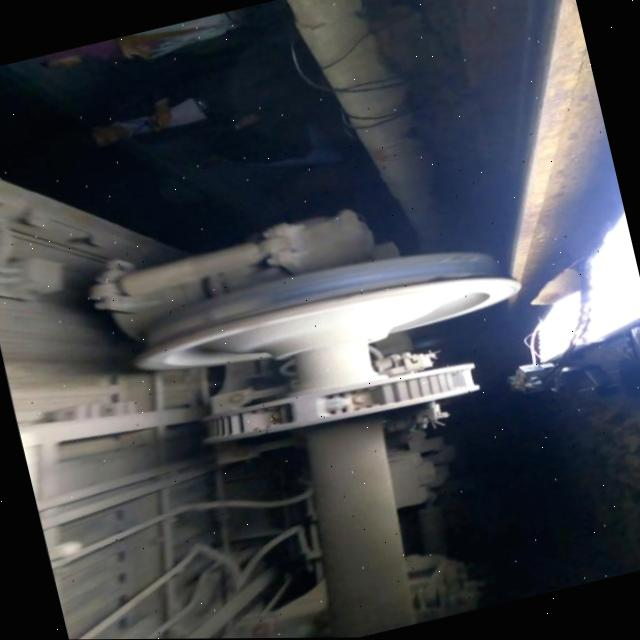Cracks-Scratches: (436, 254, 478, 265), (429, 273, 482, 281)
Shelling: (147, 290, 258, 346)
Wheel: (133, 252, 517, 370)
